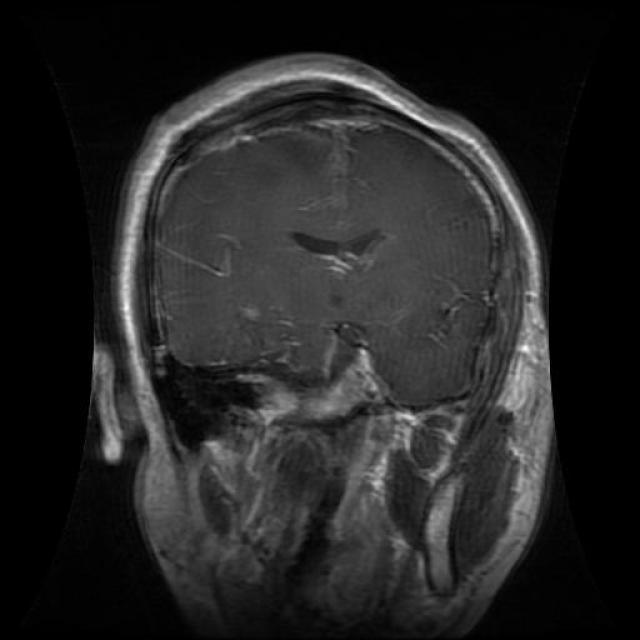glioma: (289, 227, 397, 280)
